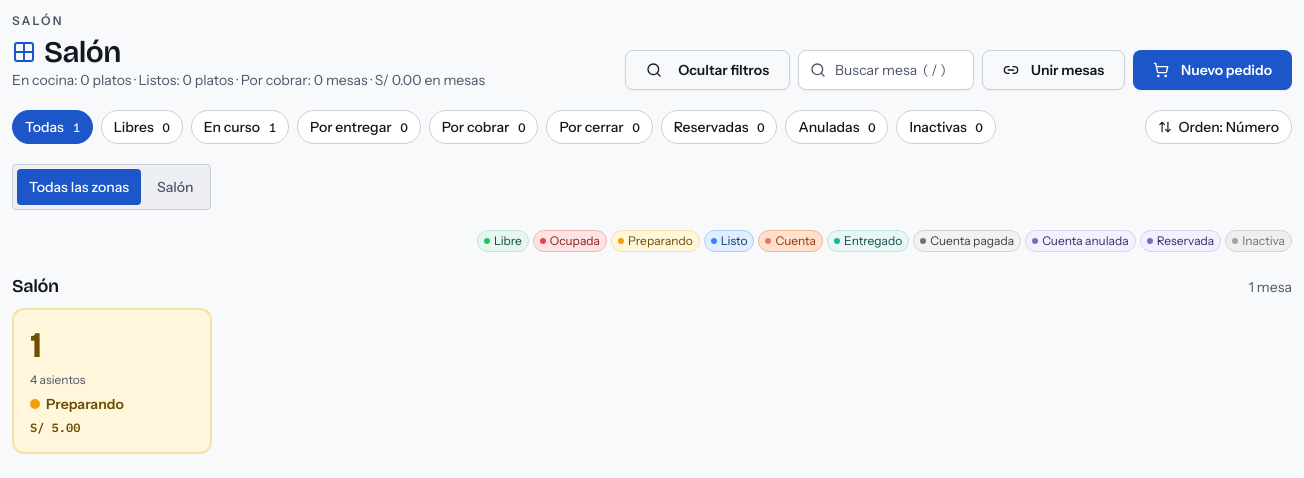
it: compositor · paridad posView (S8) › Escape protects the inline composer draft before leaving
Click the element with test id "mesa-card-1" at (112, 381), box [12,308,212,454]
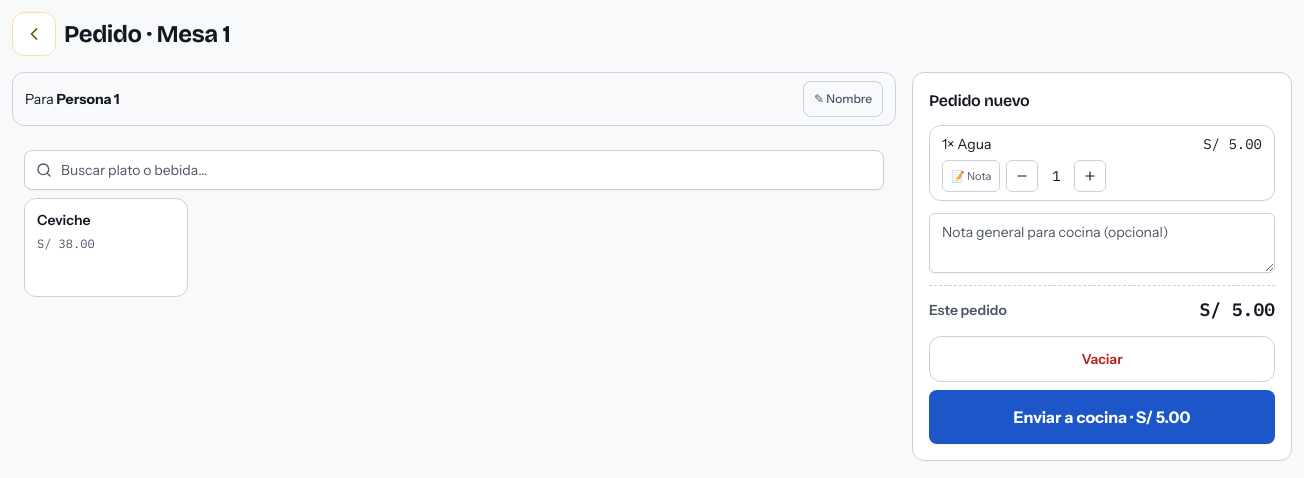
Result: the element with test id "mesa-sheet-pedido" is shown at [12,138,896,309]
